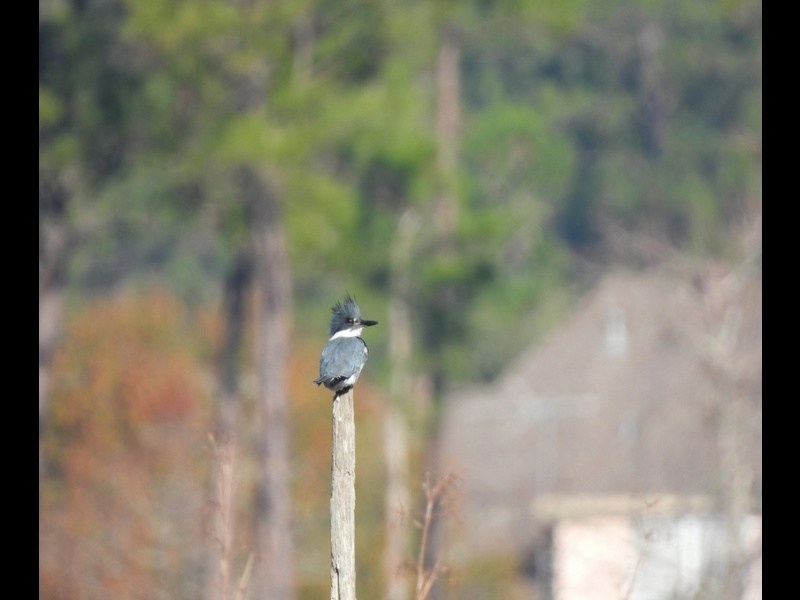kingfisher: (314, 293, 379, 399)
